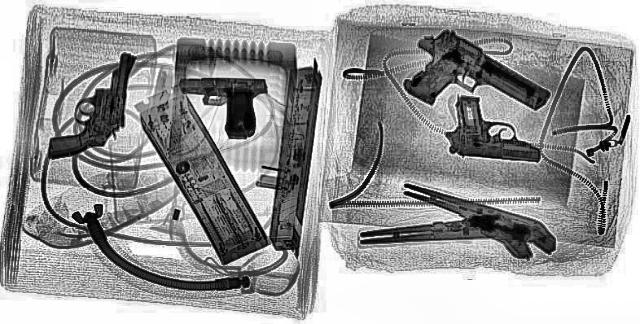Gun: (356, 27, 572, 130), (48, 51, 134, 159), (431, 95, 565, 162), (170, 74, 266, 140)
